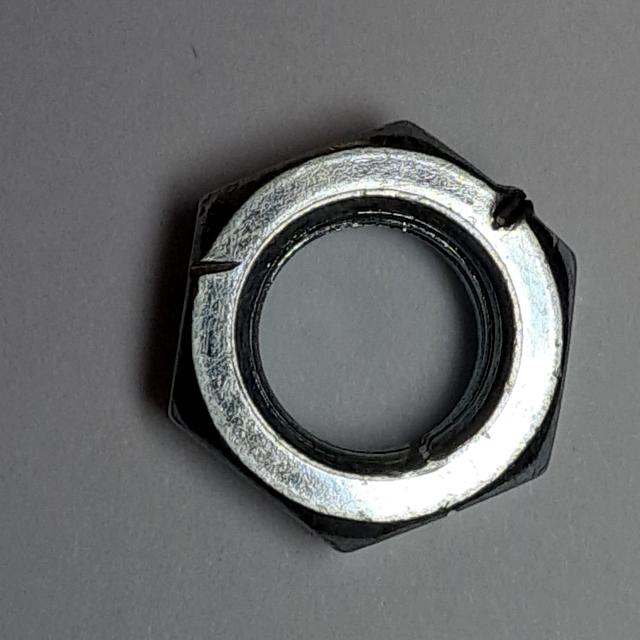Scratches: (152, 100, 591, 576)
